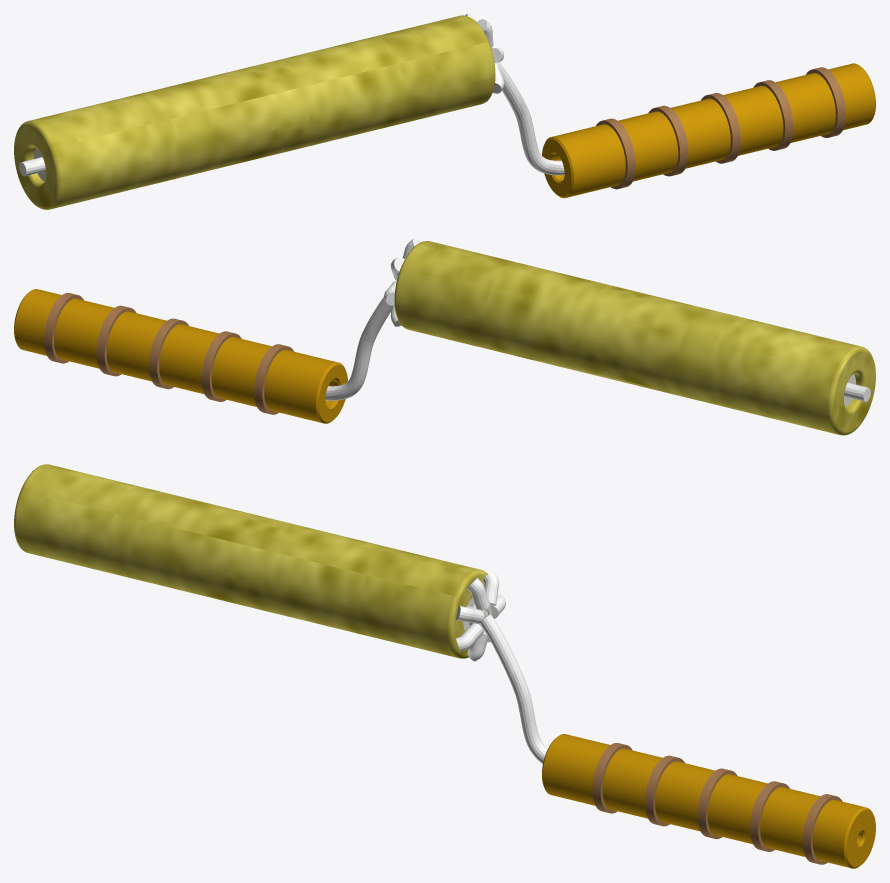
File: Handtools_Paint_roller__0000.glb
3 renders of one model, top to bottom at view 1: azimuth 30°, elevation 25°; view 2: azimuth 150°, elevation 25°; view 3: azimuth 330°, elevation 25°, orthographic.
Visible parts, largest first — view 1: roller_cover::roller_cover, handle_frame::handle_tube, handle_frame::handle_stem, handle_frame::grip_ring_1, handle_frame::grip_ring_0, handle_frame::grip_ring_4, handle_frame::grip_ring_2, handle_frame::grip_ring_3; view 2: roller_cover::roller_cover, handle_frame::handle_tube, handle_frame::handle_stem, handle_frame::grip_ring_0, handle_frame::grip_ring_2, handle_frame::grip_ring_3, handle_frame::grip_ring_1, handle_frame::grip_ring_4; view 3: roller_cover::roller_cover, handle_frame::handle_tube, handle_frame::handle_stem, handle_frame::grip_ring_0, handle_frame::grip_ring_3, handle_frame::grip_ring_2, handle_frame::grip_ring_4, handle_frame::grip_ring_1.
Boxes of the visible parts, <box> form: roller_cover::roller_cover: <box>14,15,495,209</box>; handle_frame::handle_tube: <box>542,63,875,198</box>; handle_frame::handle_stem: <box>497,62,564,175</box>; handle_frame::grip_ring_1: <box>648,105,688,176</box>; handle_frame::grip_ring_0: <box>596,118,635,189</box>; handle_frame::grip_ring_4: <box>806,67,845,137</box>; handle_frame::grip_ring_2: <box>701,93,740,163</box>; handle_frame::grip_ring_3: <box>753,80,793,150</box>; roller_cover::roller_cover: <box>394,241,875,435</box>; handle_frame::handle_tube: <box>14,289,347,423</box>; handle_frame::handle_stem: <box>325,297,391,400</box>; handle_frame::grip_ring_0: <box>254,344,293,414</box>; handle_frame::grip_ring_2: <box>149,318,188,389</box>; handle_frame::grip_ring_3: <box>96,305,136,376</box>; handle_frame::grip_ring_1: <box>201,331,241,401</box>; handle_frame::grip_ring_4: <box>44,293,83,363</box>; roller_cover::roller_cover: <box>14,464,487,658</box>; handle_frame::handle_tube: <box>542,734,875,868</box>; handle_frame::handle_stem: <box>480,614,547,763</box>; handle_frame::grip_ring_0: <box>592,743,632,813</box>; handle_frame::grip_ring_3: <box>750,781,789,851</box>; handle_frame::grip_ring_2: <box>697,768,737,839</box>; handle_frame::grip_ring_4: <box>802,794,842,864</box>; handle_frame::grip_ring_1: <box>645,755,684,826</box>.
Size of the model in its own units: 0.4081 by 0.094 by 0.0387.
5 materials, 3 textured.
